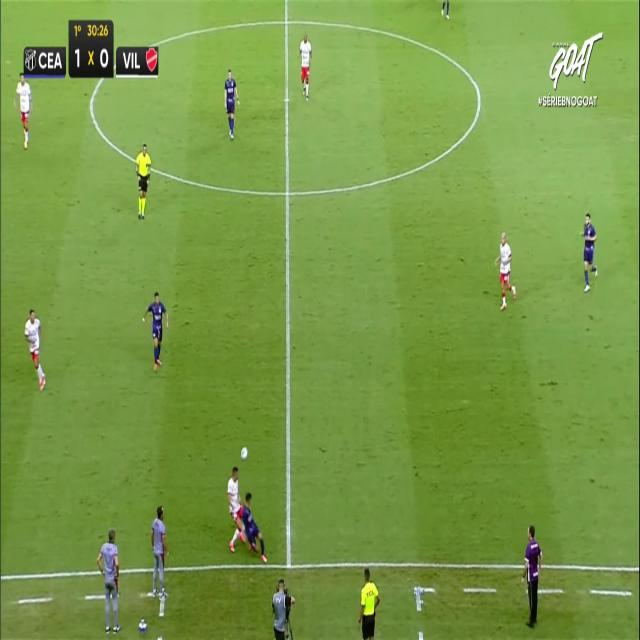ball: (241, 446, 248, 460)
player: (142, 291, 169, 371), (225, 465, 250, 547), (242, 494, 268, 566), (24, 308, 46, 391), (494, 231, 516, 310), (580, 213, 598, 292), (14, 71, 32, 149), (223, 69, 239, 140), (298, 31, 312, 101), (440, 0, 455, 28)
referee: (355, 564, 383, 640), (135, 142, 151, 219)
